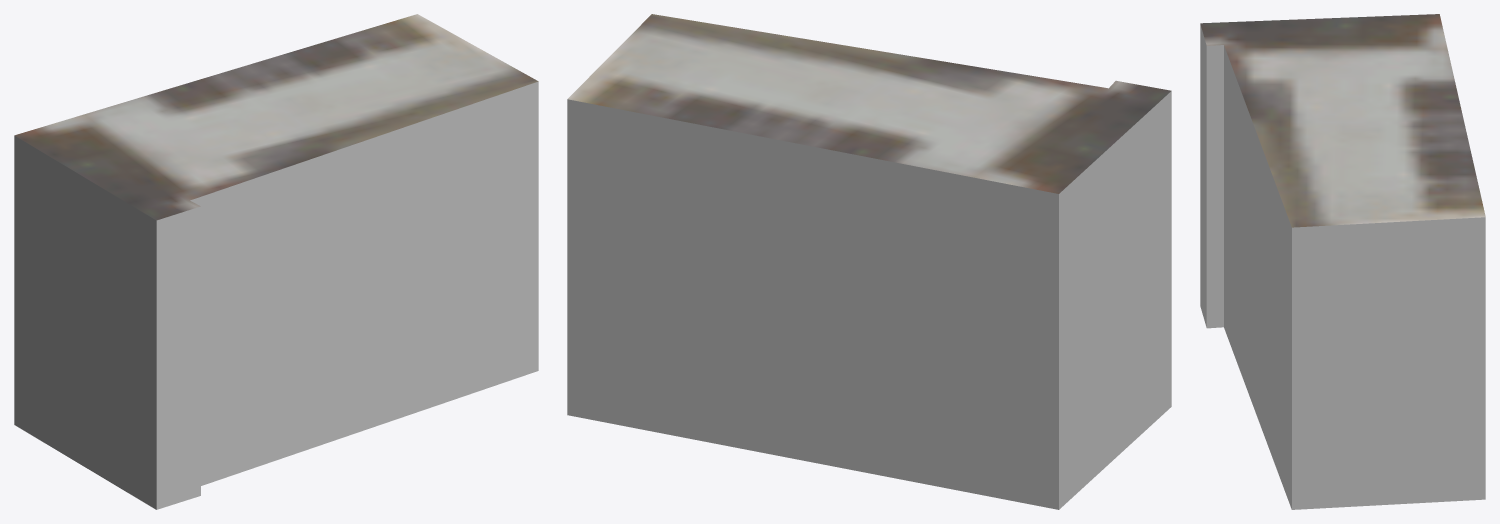
The model's file is DEBW_0010007Tx9h.gltf.
3 renders of one model, left to right at view 1: azimuth 30°, elevation 25°; view 2: azimuth 150°, elevation 25°; view 3: azimuth 270°, elevation 25°, orthographic. The views are drawn at different scales.
Visible parts, largest first — view 1: Z_UP; view 2: Z_UP; view 3: Z_UP.
Boxes of the visible parts, x1=… form: Z_UP: x1=14, y1=14, x2=538, y2=509; Z_UP: x1=567, y1=14, x2=1171, y2=509; Z_UP: x1=1200, y1=14, x2=1485, y2=509.
Size of the model in its own units: 11.52 by 7.1 by 6.51.
2 materials, 1 textured.
